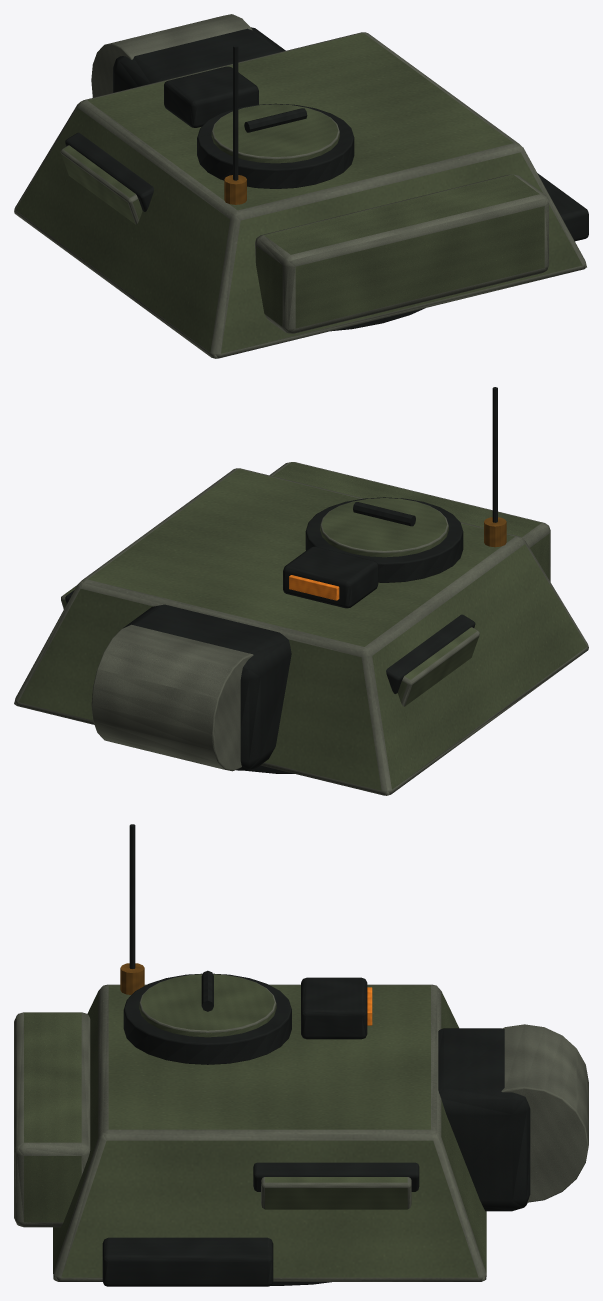
File: foundry-turret.fbx
3 views of the same model, one above another, from view 1: azimuth 30°, elevation 25°; view 2: azimuth 150°, elevation 25°; view 3: azimuth 270°, elevation 25° (orthographic). The views are drawn at different scales.
Visible parts, largest first — view 1: foundry-turret_Armor, foundry-turret_Steel, foundry-turret_Edge, foundry-turret_Brass; view 2: foundry-turret_Armor, foundry-turret_Steel, foundry-turret_Edge, foundry-turret_Optic, foundry-turret_Brass; view 3: foundry-turret_Armor, foundry-turret_Steel, foundry-turret_Edge, foundry-turret_Brass.
Part boxes in pixels (box(x1,y1,x2,y2)): foundry-turret_Armor: box(14, 32, 586, 358); foundry-turret_Steel: box(65, 27, 588, 331); foundry-turret_Edge: box(91, 14, 252, 97); foundry-turret_Brass: box(224, 175, 246, 204); foundry-turret_Armor: box(14, 462, 588, 795); foundry-turret_Steel: box(65, 387, 497, 773); foundry-turret_Edge: box(91, 624, 253, 771); foundry-turret_Optic: box(289, 575, 339, 600); foundry-turret_Brass: box(484, 517, 506, 547); foundry-turret_Armor: box(14, 974, 486, 1281); foundry-turret_Steel: box(102, 824, 530, 1286); foundry-turret_Edge: box(501, 1024, 588, 1202); foundry-turret_Brass: box(120, 963, 144, 994).
Bounding box in the file's own units: 223 × 158 × 259.
5 materials, 5 textured.
